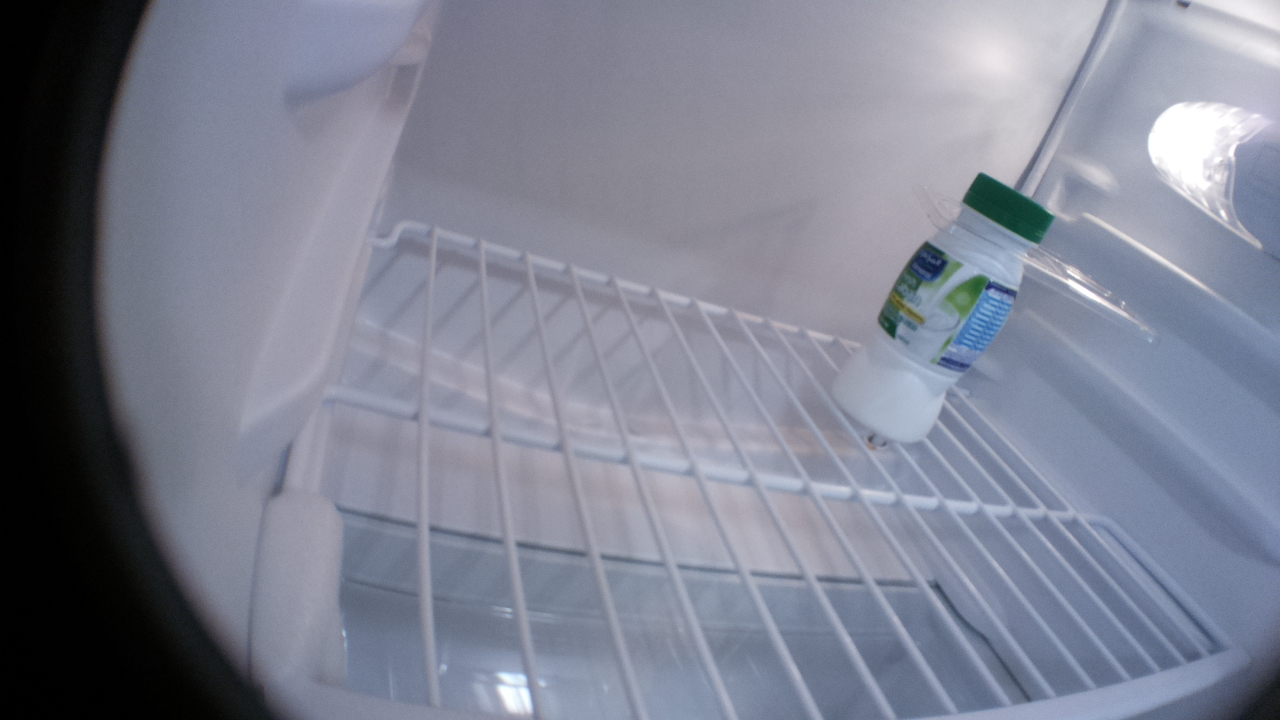laban: (833, 171, 1058, 439)
